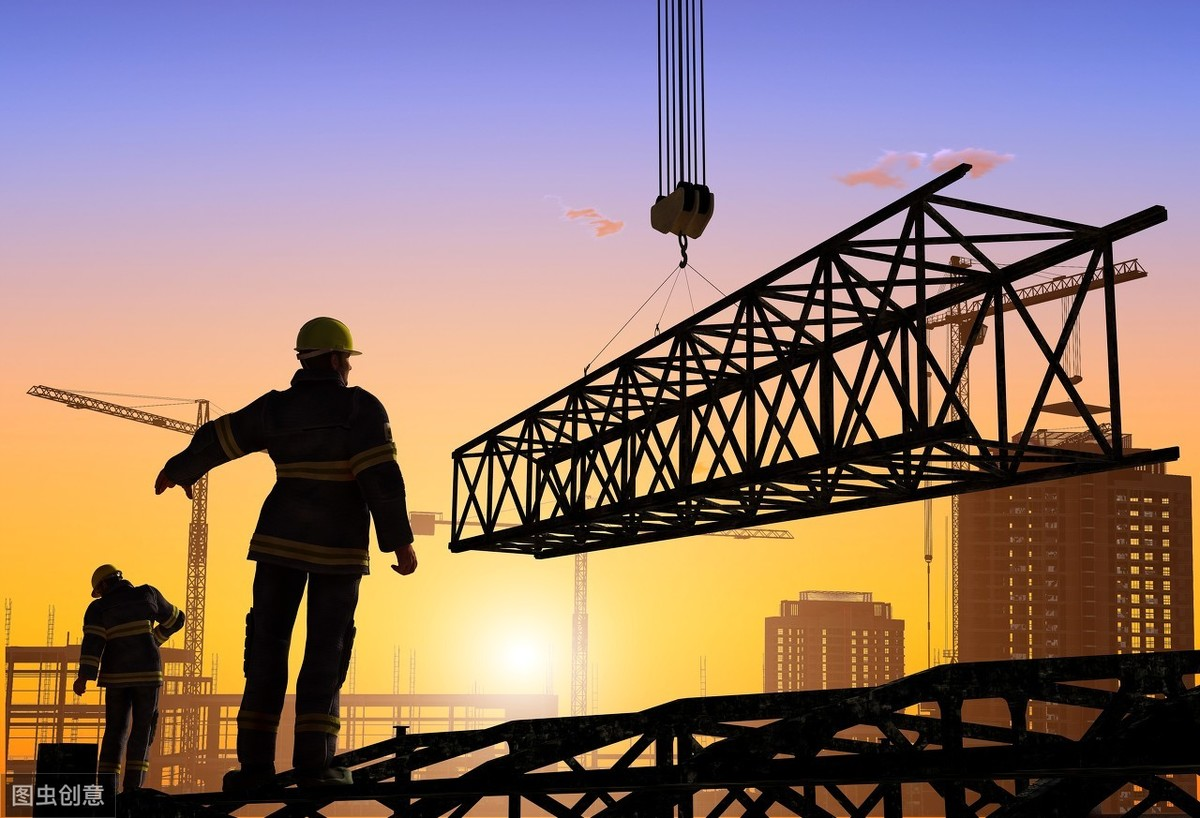helmet: (296, 315, 364, 355), (91, 563, 122, 599)
hook: (644, 175, 723, 273), (922, 553, 936, 567)
person: (154, 313, 420, 793), (71, 559, 187, 791)
